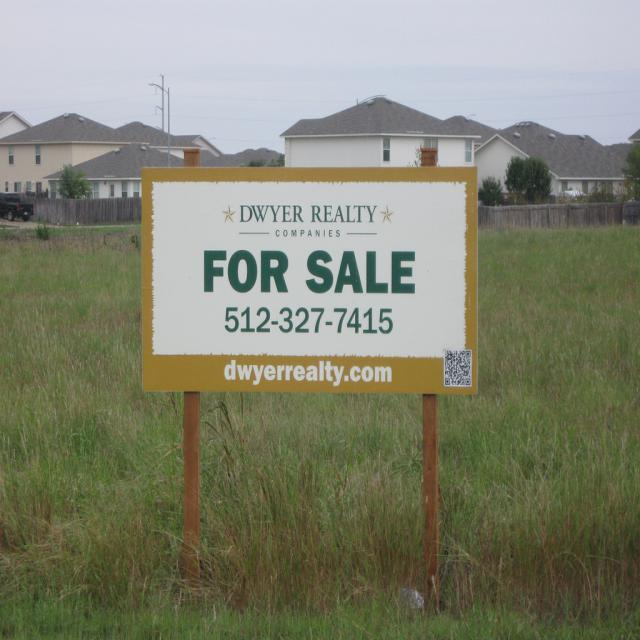qrcode: (446, 351, 471, 385)
